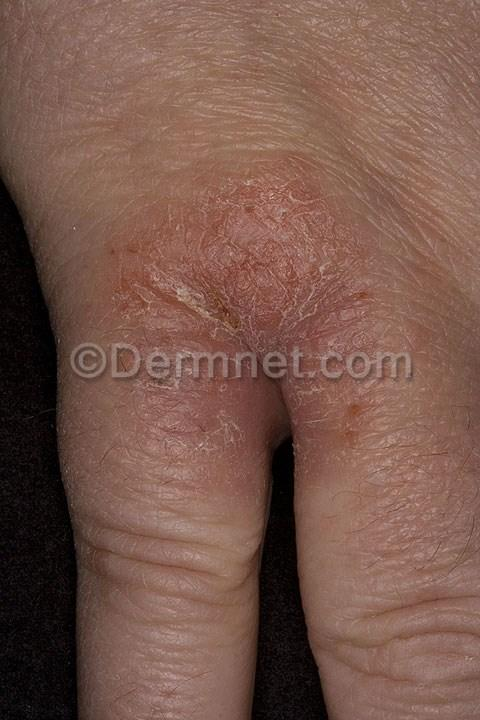Eczema: (80, 106, 412, 474)
